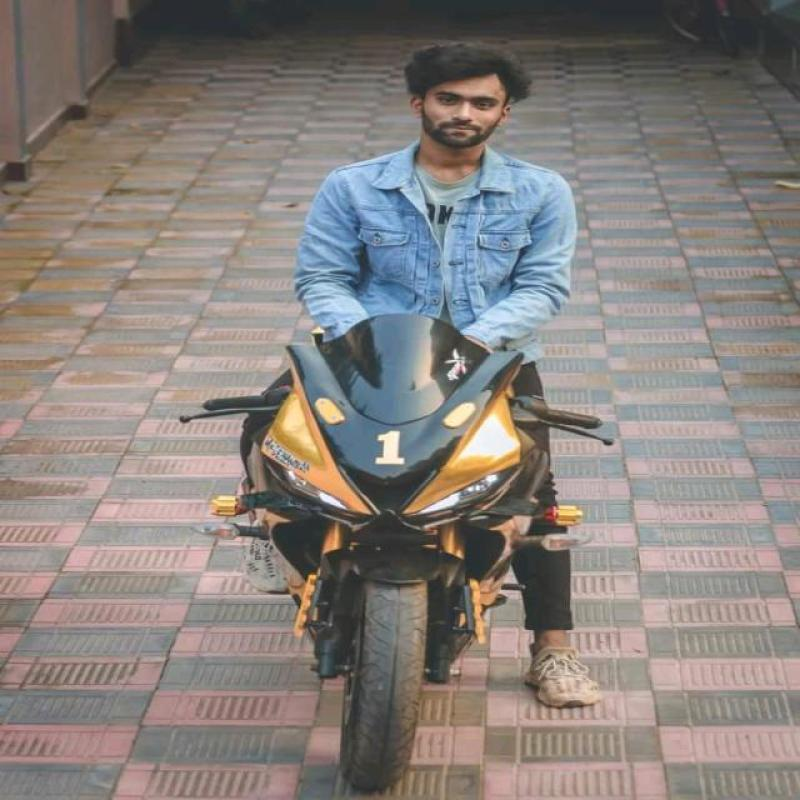nohelmet: (394, 44, 528, 154)
